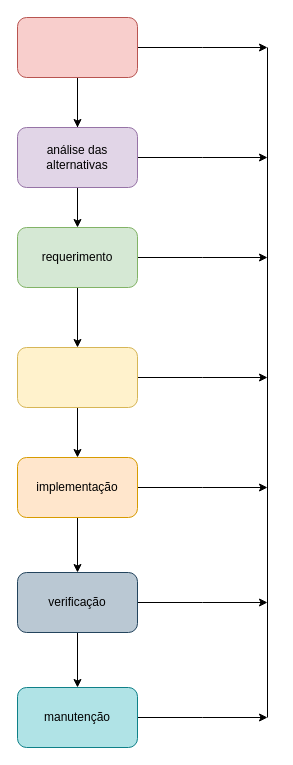
This 293x765 diagram has some shape labels left out. The shapes that lost their labels are listed below. From the top down, each one's centre as x and y in pixels, then its label:
the point at 77,47: Levantamento de necessidades
the point at 77,377: projeto
